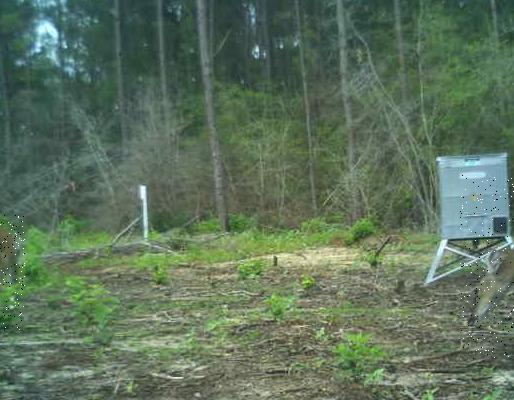Deer: (460, 173, 514, 359), (0, 214, 25, 331)
